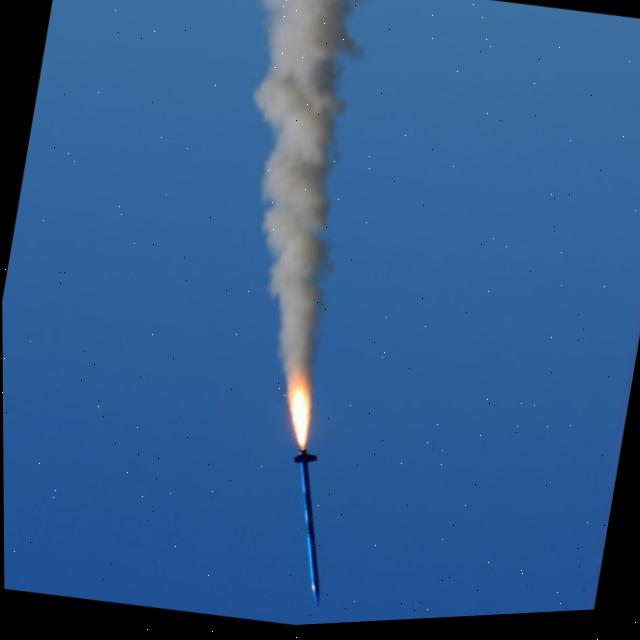missile: (268, 451, 347, 613)
